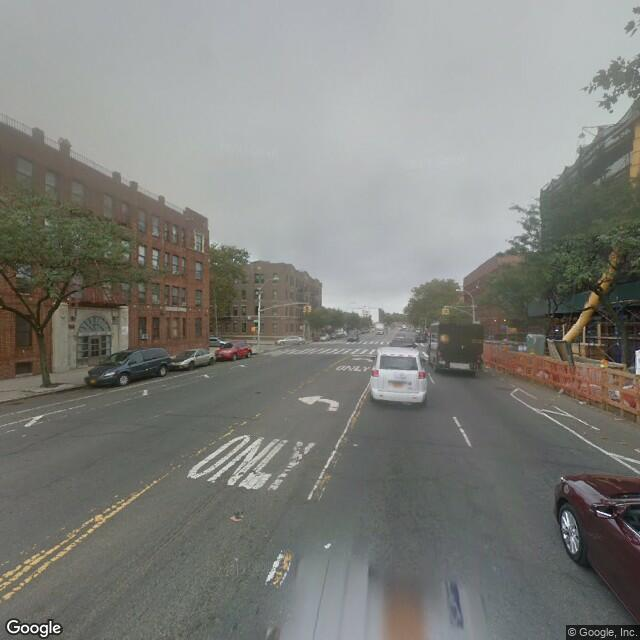litter: (325, 543, 333, 550), (354, 441, 360, 446)
